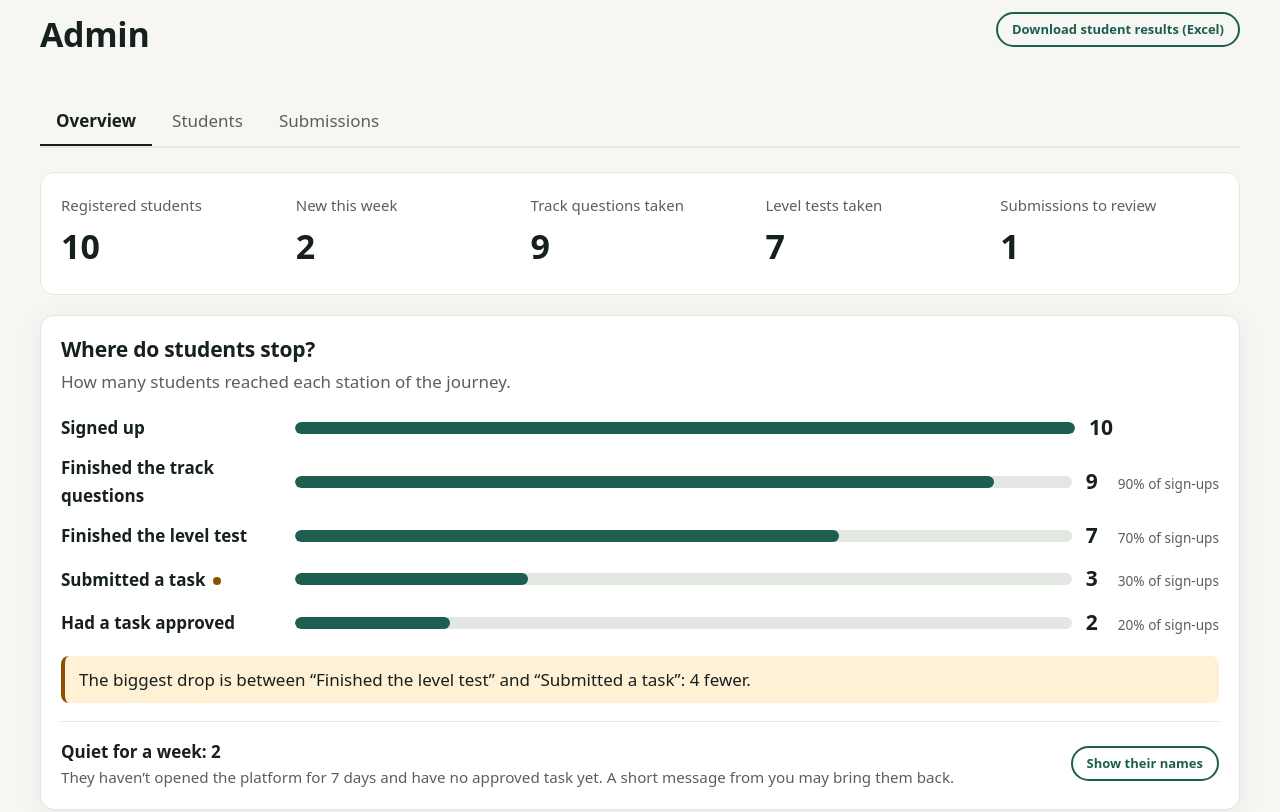
Test: Admin overview › shows where students stop and leads to the quiet ones
Expected: the text "70% of sign-ups" is shown, [1118,527,1219,548]
Expected: the element "Where do students stop?" shows "The biggest drop is between “Finished the level test” and “Submitted a task”: 4 fewer.", [79,668,751,690]
Click the button "Show their names": x=1145, y=763 [1071,746,1219,781]
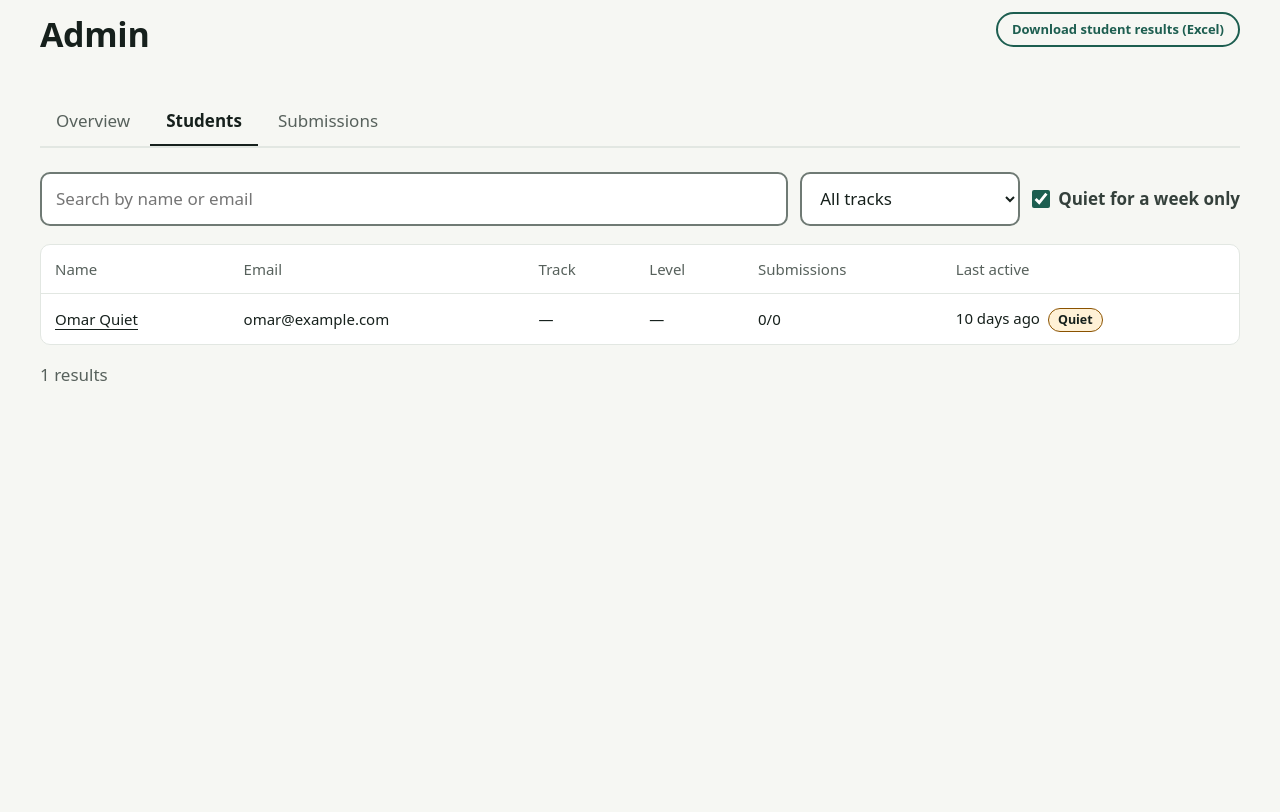
Expected: the checkbox labelled "Quiet for a week only" is checked, [1032,190,1050,208]
Expected: the row "Omar Quiet" shows "10 days ago", [956,308,1040,328]
Expected: the row "Omar Quiet" is shown, [1058,311,1093,328]
